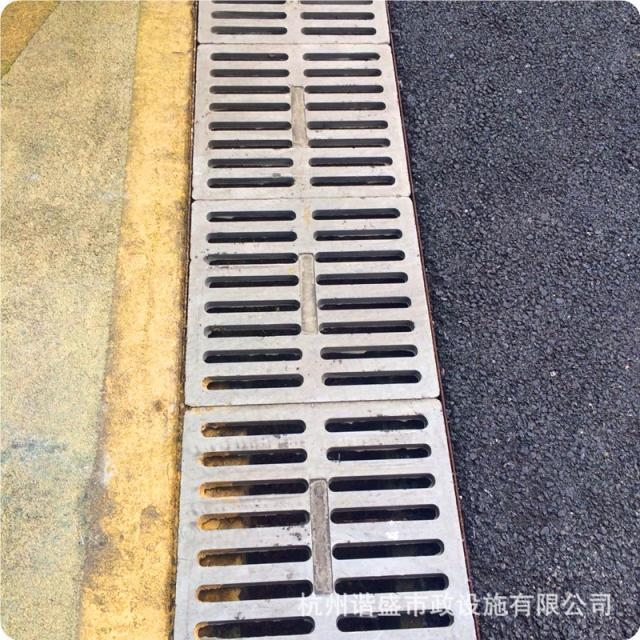manhole: (176, 0, 479, 640)
